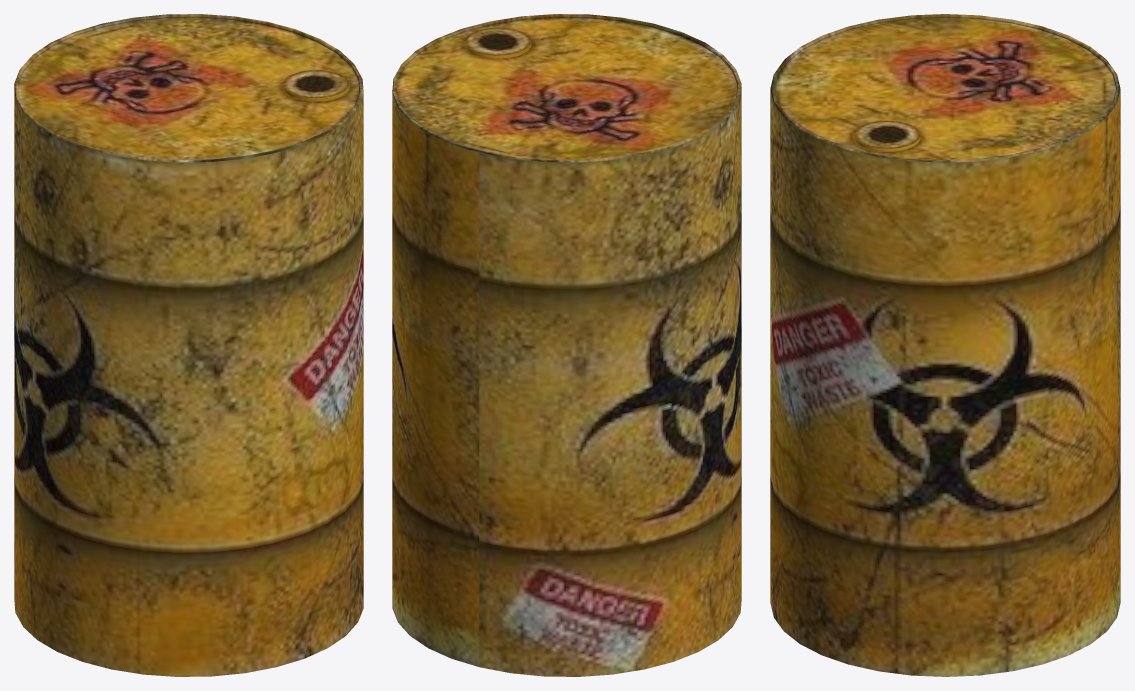
Rendered from Barrel.fbx.
The picture shows the model from 3 angles, left to right: view 1: azimuth 30°, elevation 25°; view 2: azimuth 150°, elevation 25°; view 3: azimuth 270°, elevation 25°; orthographic projection.
Parts seen in each view (by area): view 1: Cylinder; view 2: Cylinder; view 3: Cylinder.
Part boxes in pixels (<box>): Cylinder: <box>14,14,363,676</box>; Cylinder: <box>392,14,741,676</box>; Cylinder: <box>770,14,1120,676</box>.
Bounding box in the file's own units: 133 × 217 × 133.
